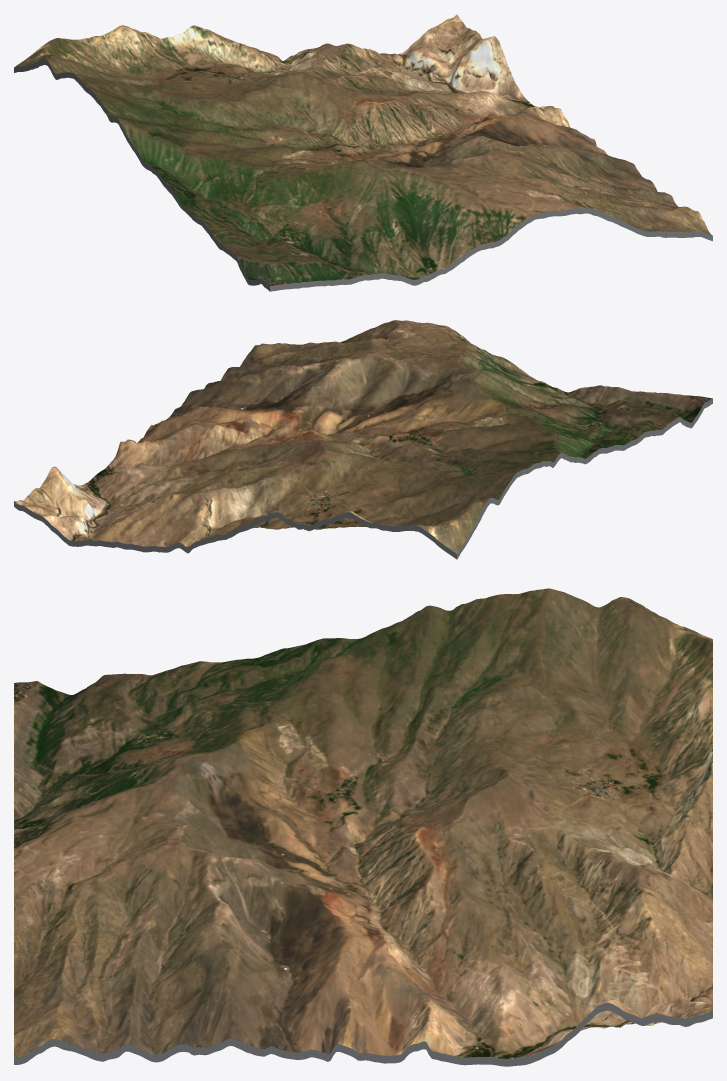
3 renders of one model, top to bottom at view 1: azimuth 30°, elevation 25°; view 2: azimuth 150°, elevation 25°; view 3: azimuth 270°, elevation 25°, orthographic. The views are drawn at different scales.
Parts seen in each view (by area): view 1: terrain, skirt; view 2: terrain, skirt; view 3: terrain, skirt.
Boxes of the visible parts, left/top/right/bottom form: terrain: left=14, top=14, right=712, bottom=285; skirt: left=14, top=59, right=712, bottom=291; terrain: left=14, top=320, right=712, bottom=553; skirt: left=14, top=398, right=712, bottom=559; terrain: left=14, top=588, right=712, bottom=1058; skirt: left=14, top=1003, right=712, bottom=1066.
Bounding box in the file's own units: 7500 × 2164 × 7500.
Materials: 1 (1 with a texture image).
